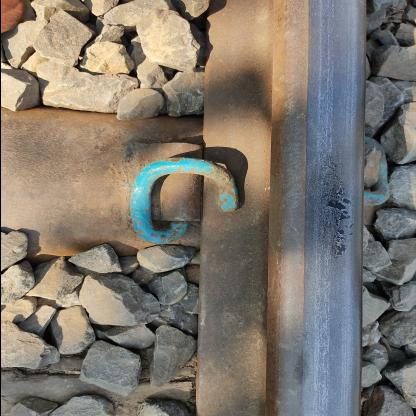Non Defective 1: (172, 169, 334, 300)
